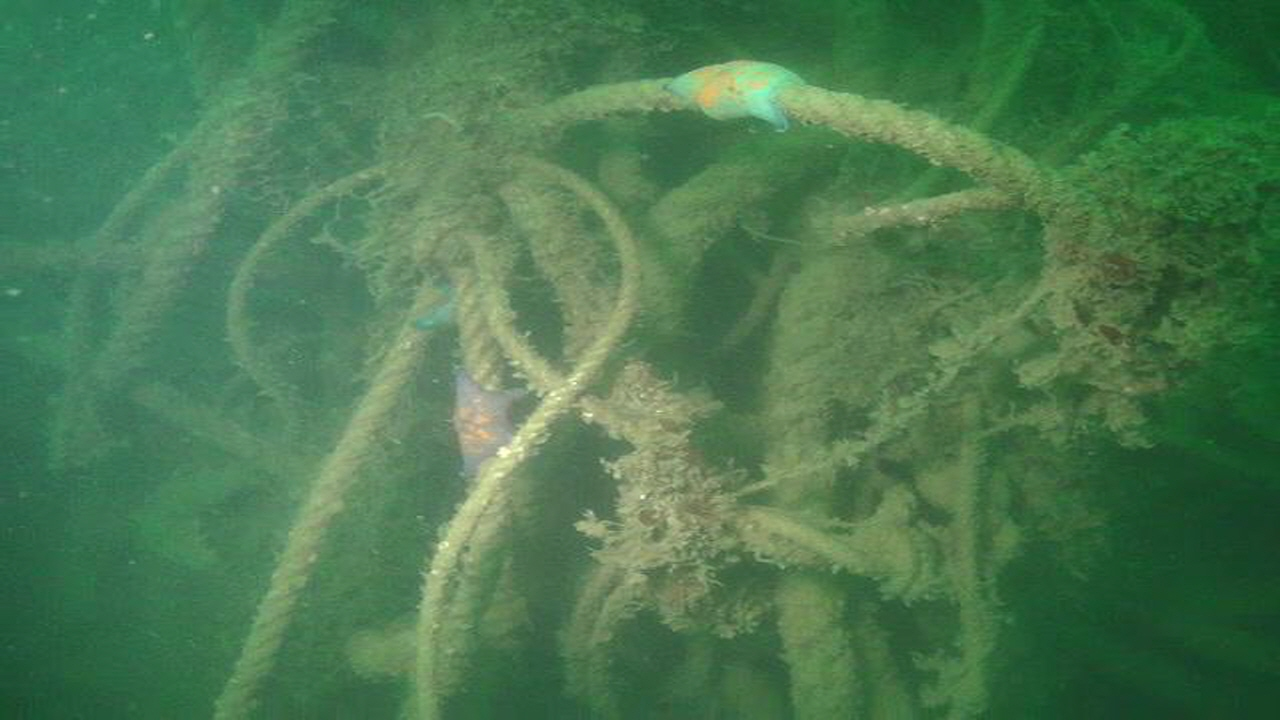bundle of ropes: (65, 0, 1071, 720)
